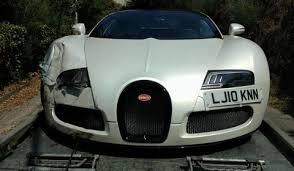Headlight-Damage: (52, 60, 96, 102)
fender-dent: (47, 35, 85, 58)
